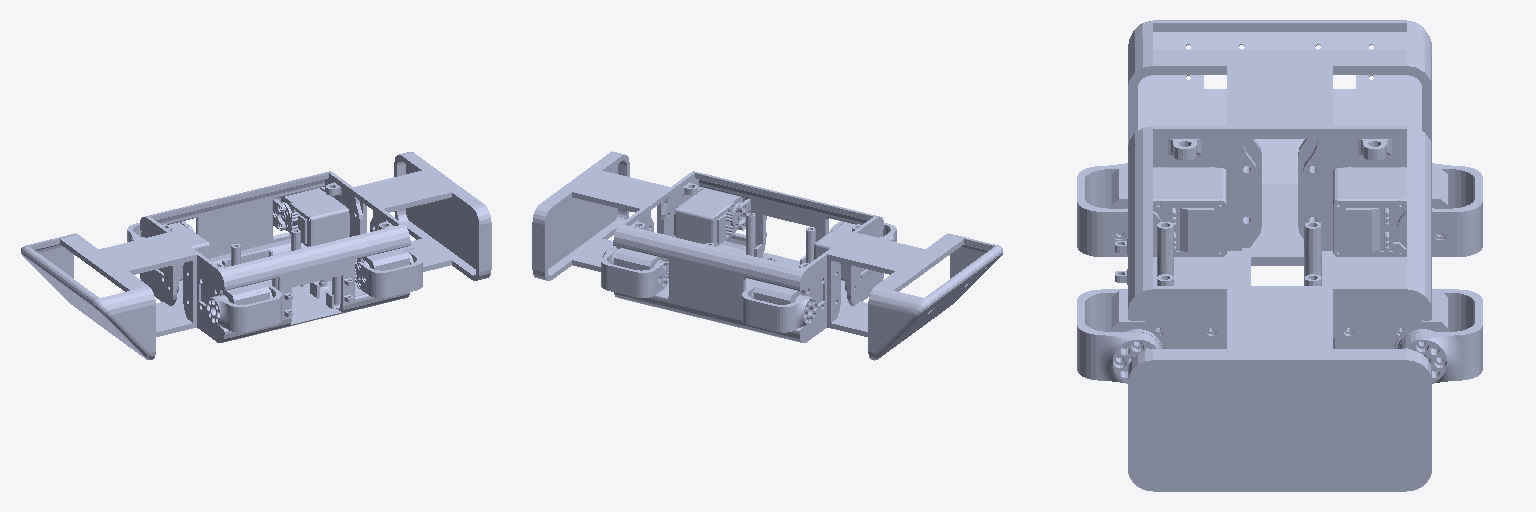
The robot description file, URDF, robot "chassis_sub.SLDASM":
<?xml version="1.0" encoding="utf-8"?>
<!-- This URDF was automatically created by SolidWorks to URDF Exporter! Originally created by Stephen Brawner (brawner@gmail.com) 
     Commit Version: 1.6.0-4-g7f85cfe  Build Version: 1.6.7995.38578
     For more information, please see http://wiki.ros.org/sw_urdf_exporter -->
<robot
  name="chassis_sub.SLDASM">
  <link
    name="body_link">
    <inertial>
      <origin
        xyz="-0.00088924 0.00065867 0.025239"
        rpy="0 0 0" />
      <mass
        value="0.48226" />
      <inertia
        ixx="0.00059003"
        ixy="1.7483E-07"
        ixz="1.2179E-05"
        iyy="0.00065227"
        iyz="5.4205E-08"
        izz="0.00096831" />
    </inertial>
    <visual>
      <origin
        xyz="0 0 0"
        rpy="0 0 0" />
      <geometry>
        <mesh
          filename="package://chassis_sub.SLDASM/meshes/body_link.STL" />
      </geometry>
      <material
        name="">
        <color
          rgba="0.79216 0.81961 0.93333 1" />
      </material>
    </visual>
    <collision>
      <origin
        xyz="0 0 0"
        rpy="0 0 0" />
      <geometry>
        <mesh
          filename="package://chassis_sub.SLDASM/meshes/body_link.STL" />
      </geometry>
    </collision>
  </link>
  <link
    name="shoulder_link">
    <inertial>
      <origin
        xyz="-0.056659 -0.0032609 -0.081911"
        rpy="0 0 0" />
      <mass
        value="0.48226" />
      <inertia
        ixx="0.003376"
        ixy="-2.46E-06"
        ixz="-5.5591E-07"
        iyy="0.004088"
        iyz="-6.7094E-05"
        izz="0.0010213" />
    </inertial>
    <visual>
      <origin
        xyz="0 0 0"
        rpy="0 0 0" />
      <geometry>
        <mesh
          filename="package://chassis_sub.SLDASM/meshes/shoulder_link.STL" />
      </geometry>
      <material
        name="">
        <color
          rgba="1 1 1 1" />
      </material>
    </visual>
    <collision>
      <origin
        xyz="0 0 0"
        rpy="0 0 0" />
      <geometry>
        <mesh
          filename="package://chassis_sub.SLDASM/meshes/shoulder_link.STL" />
      </geometry>
    </collision>
  </link>
  <joint
    name="haa_joint"
    type="revolute">
    <origin
      xyz="-0.0828 -0.0559999999999999 0.0285"
      rpy="1.5707963267949 0 -1.5707963267949" />
    <parent
      link="body_link" />
    <child
      link="shoulder_link" />
    <axis
      xyz="0 0 1" />
    <limit
      lower="0"
      upper="0"
      effort="0"
      velocity="0" />
  </joint>
</robot>

--- What the picture shows (computed from the rendered views, not written in the file) ---
3 views of the same robot in one strip: view 1: azimuth 30°, elevation 25°; view 2: azimuth 150°, elevation 25°; view 3: azimuth 270°, elevation 25° (orthographic).
Robot: chassis_sub.SLDASM — 2 links, 1 joints (1 revolute); root link body_link; default pose: every joint at zero.
Visible links, largest first — view 1: body_link; view 2: body_link; view 3: body_link.
Link boxes in pixels (x1=…): body_link: x1=21, y1=152, x2=491, y2=359; body_link: x1=532, y1=151, x2=1002, y2=360; body_link: x1=1077, y1=20, x2=1482, y2=491.
Bounding box of the posed robot: 0.3193 × 0.1596 × 0.057 m (x, y, z).
Meshes: 2 distinct files referenced, 1 mesh visuals loaded (1 binary STL); not drawn: 1 (file found but could not be loaded).
